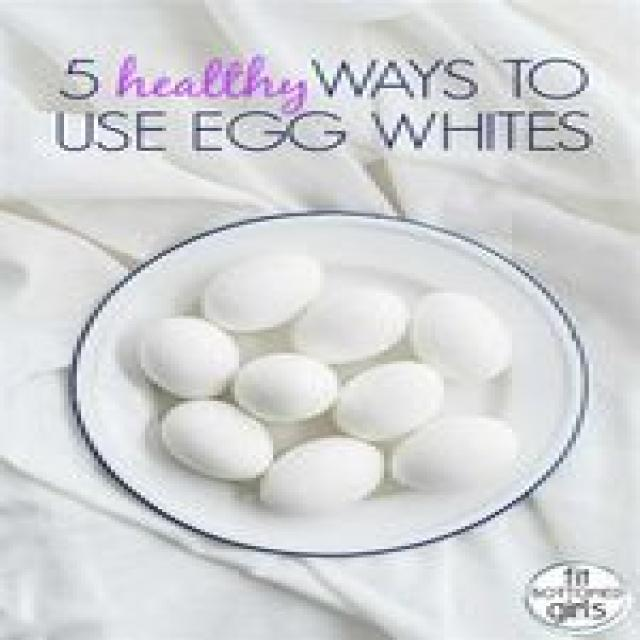Egg: (131, 296, 237, 405), (342, 356, 458, 440)
